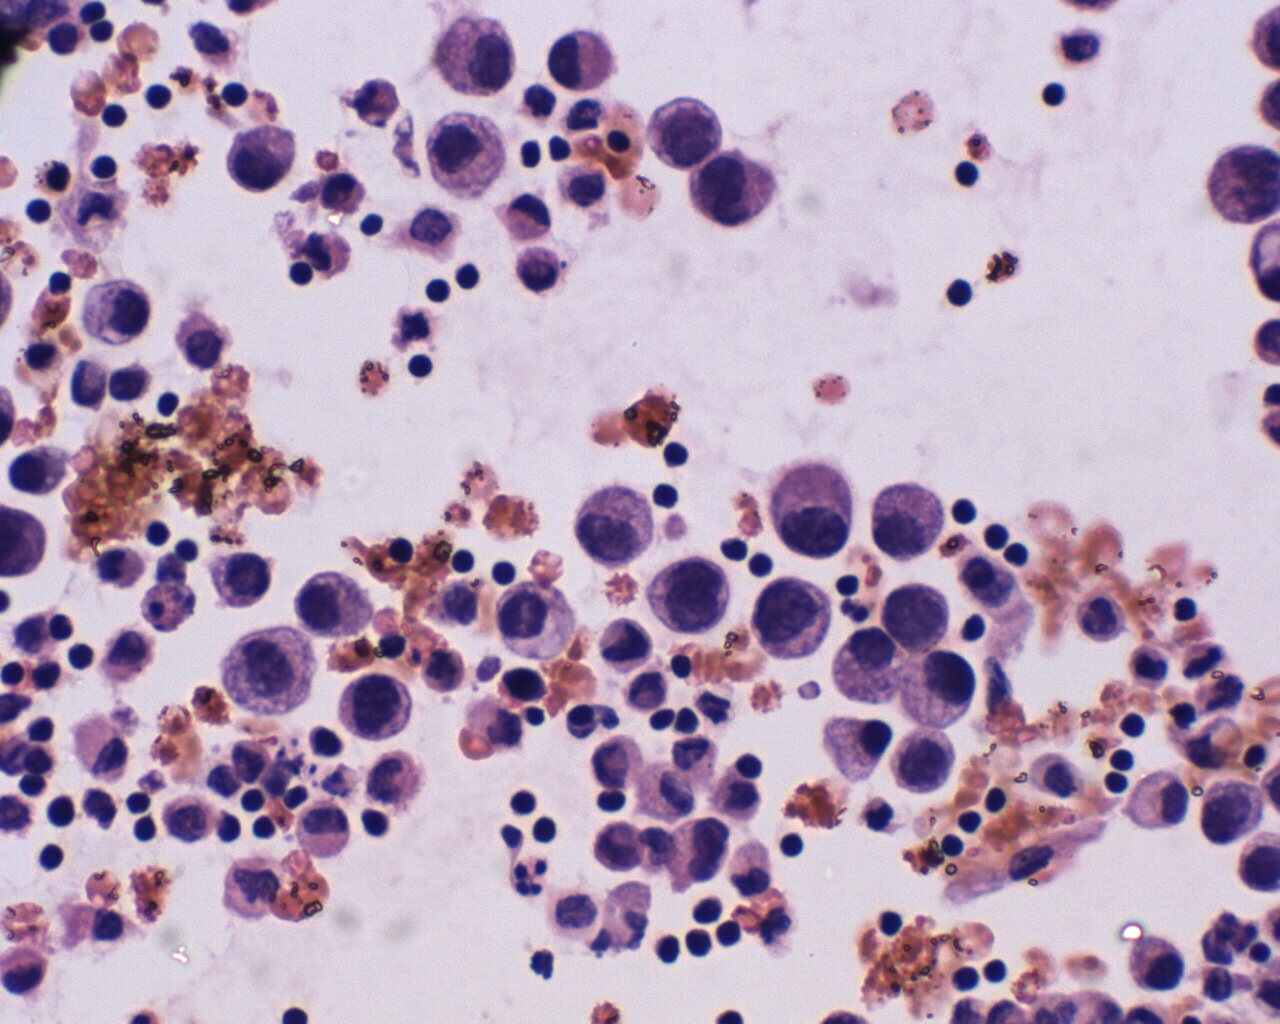ab: (764, 458, 854, 567), (427, 9, 521, 102), (642, 93, 741, 172), (750, 575, 838, 661), (571, 483, 657, 569), (649, 545, 732, 634), (290, 562, 385, 641), (867, 478, 952, 564), (682, 149, 772, 228), (890, 723, 969, 802), (332, 670, 414, 746), (877, 580, 959, 654), (202, 545, 275, 616), (1198, 776, 1270, 848)
lymph: (769, 827, 818, 868), (937, 273, 978, 318), (415, 270, 457, 312), (139, 78, 181, 115), (650, 929, 686, 971), (60, 641, 102, 675), (399, 350, 442, 382), (1035, 76, 1075, 111), (506, 784, 545, 818), (661, 439, 698, 475), (942, 492, 978, 529), (486, 554, 522, 589)
meso: (1118, 765, 1195, 834)
